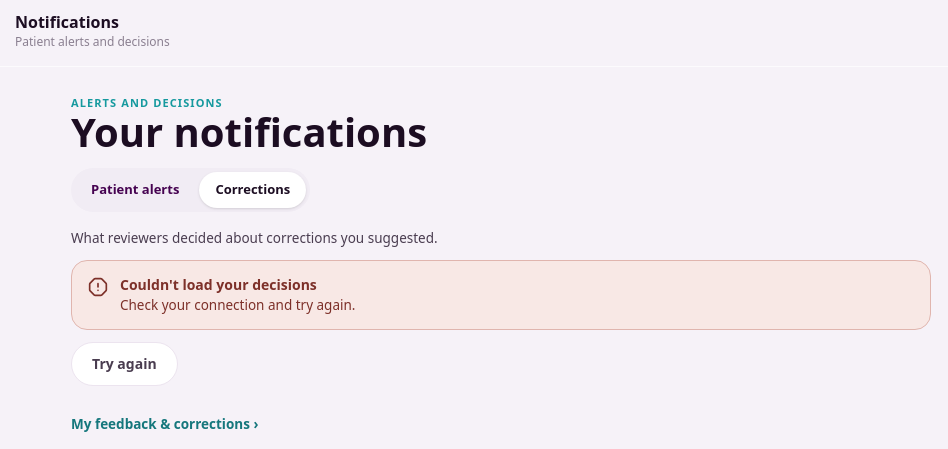
Test: Notifications: Corrections › disables Try again while retrying
The image size is (948, 449).
Click the button "Try again".
click(124, 364)  # box [71,342,178,386]
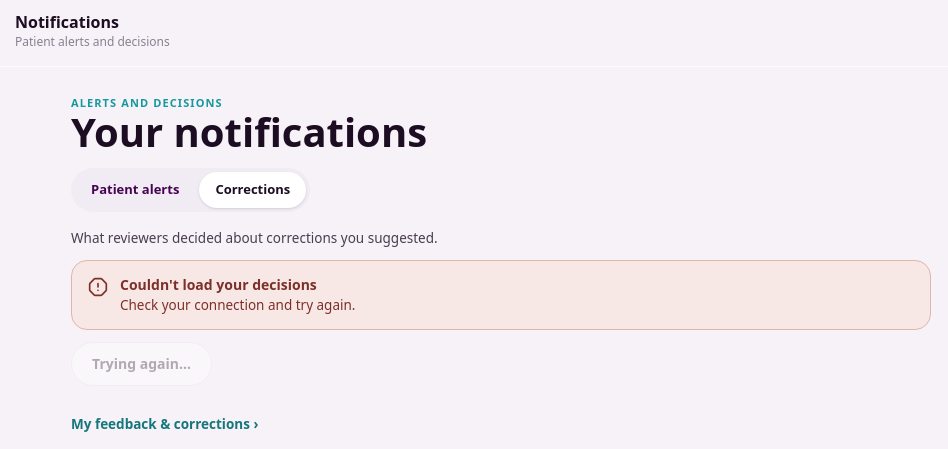
Expected: the button "Trying again…" is disabled, [71,342,212,386]
